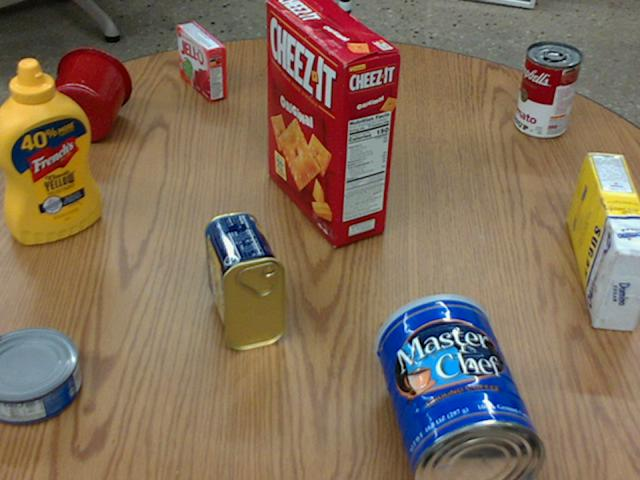cracker_box: (265, 0, 400, 244)
gelatin_box: (179, 22, 227, 101)
large_marker: (336, 0, 350, 64)
master_chef_can: (375, 293, 545, 479)
mug: (40, 47, 132, 142)
mustard_bottle: (0, 58, 101, 243)
potted_meat_can: (203, 211, 285, 350)
sugar_box: (567, 152, 639, 331)
tomato_soup_can: (514, 42, 581, 138)
tuna_fish_can: (0, 326, 80, 421)
